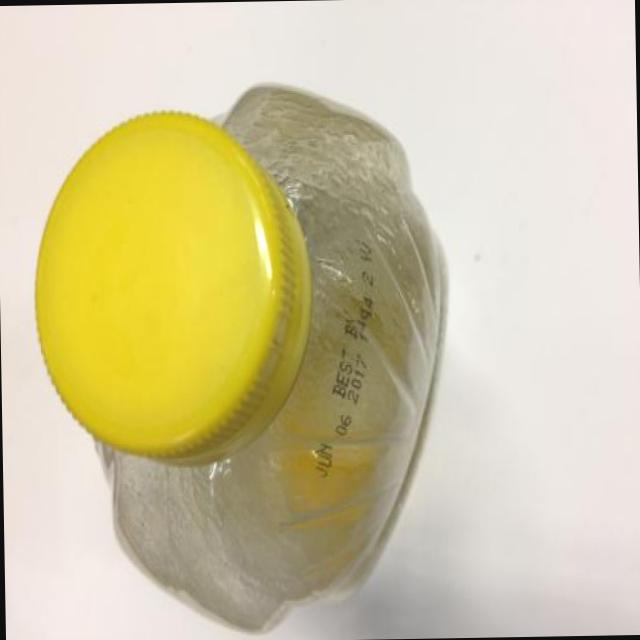Trash: (26, 59, 454, 635)
